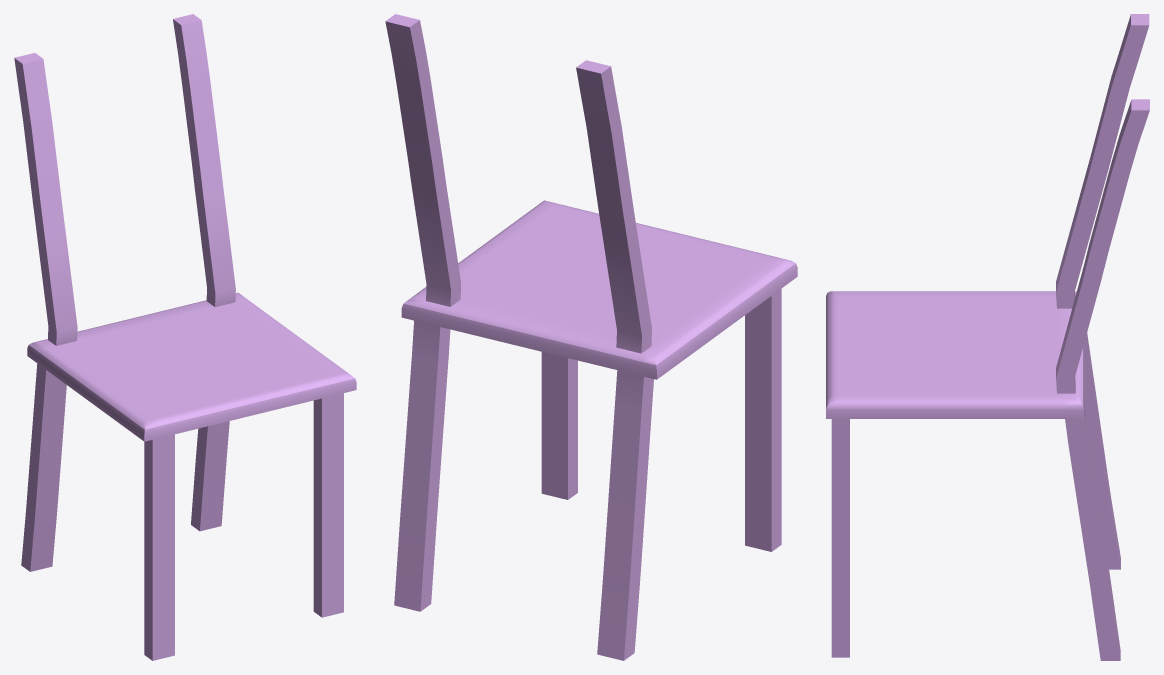
3 renders of one model, left to right at view 1: azimuth 30°, elevation 25°; view 2: azimuth 150°, elevation 25°; view 3: azimuth 270°, elevation 25°, orthographic. The views are drawn at different scales.
Parts seen in each view (by area): view 1: split_parent_0; view 2: split_parent_0; view 3: split_parent_0.
Boxes of the visible parts, x1=… form: split_parent_0: x1=14, y1=14, x2=356, y2=660; split_parent_0: x1=385, y1=14, x2=797, y2=660; split_parent_0: x1=826, y1=14, x2=1149, y2=660.
Bounding box in the file's own units: 0.4467 × 1 × 0.5362.
